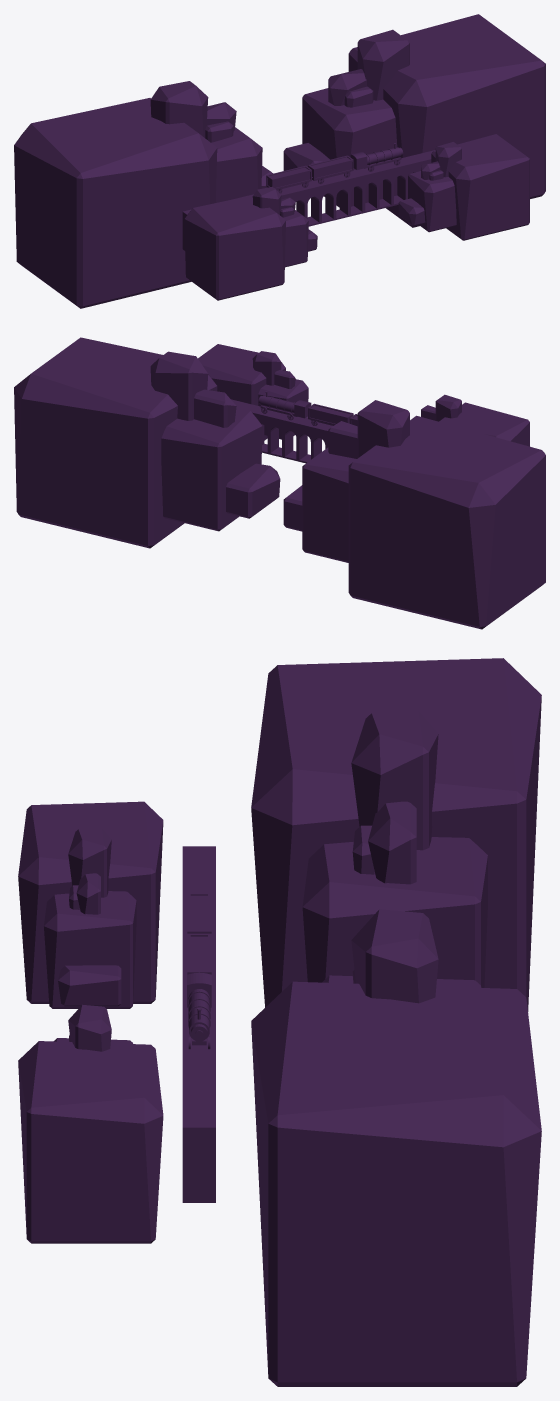
The model's file is title_backdrop_2.glb.
The picture shows the model from 3 angles, top to bottom: view 1: azimuth 30°, elevation 25°; view 2: azimuth 150°, elevation 25°; view 3: azimuth 270°, elevation 25°; orthographic projection. The views are drawn at different scales.
Parts seen in each view (by area): view 1: Backdrop, Mountain, Bridge, Carriage, Train; view 2: Backdrop, Mountain, Bridge, Train, Carriage; view 3: Backdrop, Mountain, Bridge, Carriage, Train.
Part boxes in pixels (x1,y1,x2,y2): Backdrop: (14, 14, 545, 308); Mountain: (184, 134, 529, 300); Bridge: (182, 150, 435, 250); Carriage: (266, 155, 353, 193); Train: (350, 143, 403, 171); Backdrop: (14, 337, 545, 629); Mountain: (198, 344, 529, 446); Bridge: (231, 399, 332, 463); Train: (258, 391, 311, 420); Carriage: (308, 403, 357, 426); Backdrop: (251, 658, 541, 1386); Mountain: (18, 801, 163, 1243); Bridge: (182, 846, 215, 1202); Carriage: (187, 892, 211, 974); Train: (187, 972, 211, 1049).
Bounding box in the file's own units: 66.86 × 22.55 × 31.48.
